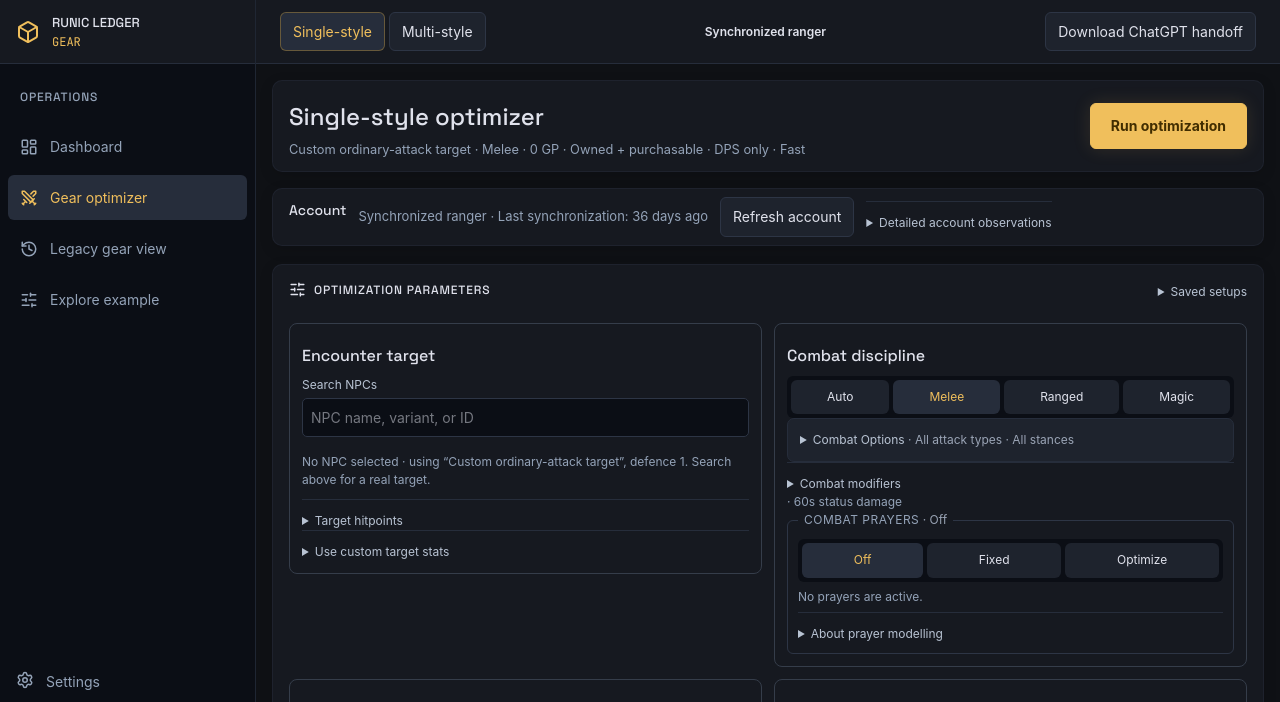
Test: preserves structured field errors and never switches to fixtures
Expected: the text "Synchronized ranger" is shown, [705,24,826,38]
Click the button "Run optimization".
click(1168, 126)  # box [1090,103,1247,149]
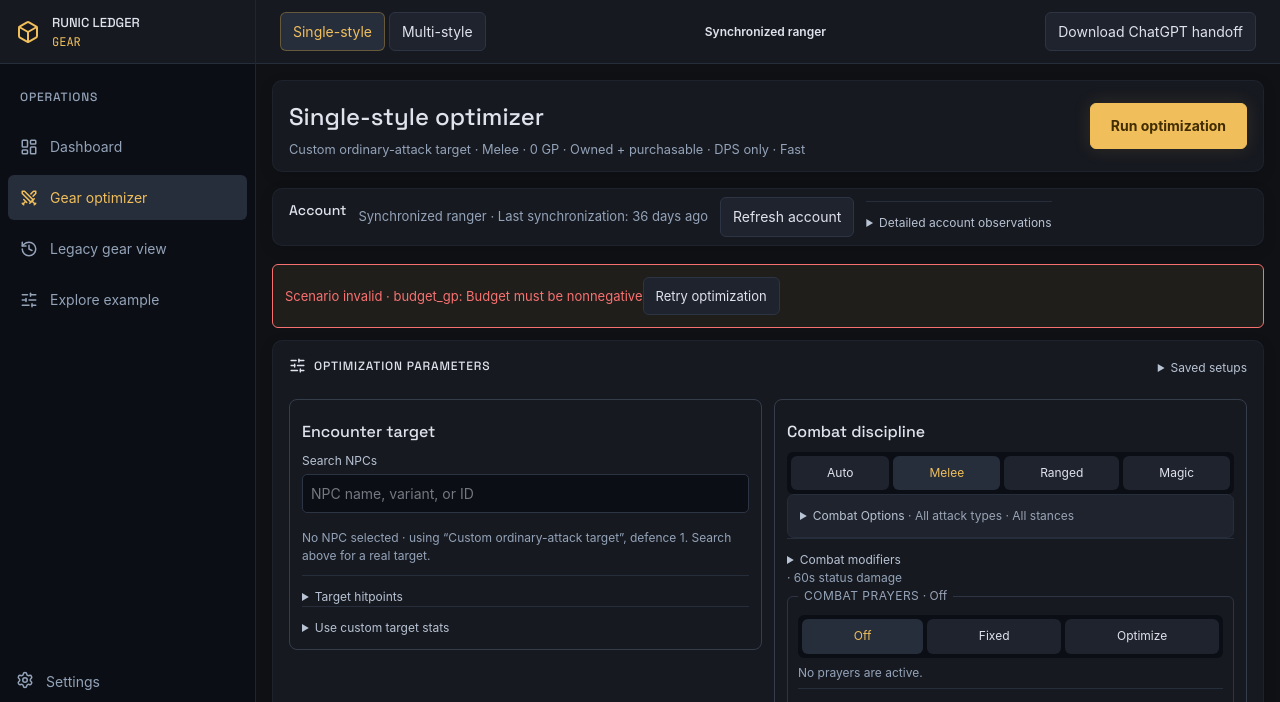
Expected: the text "Scenario invalid · budget_gp: Budget must be nonnegative Retry optimization" is shown, [272,264,1264,328]
